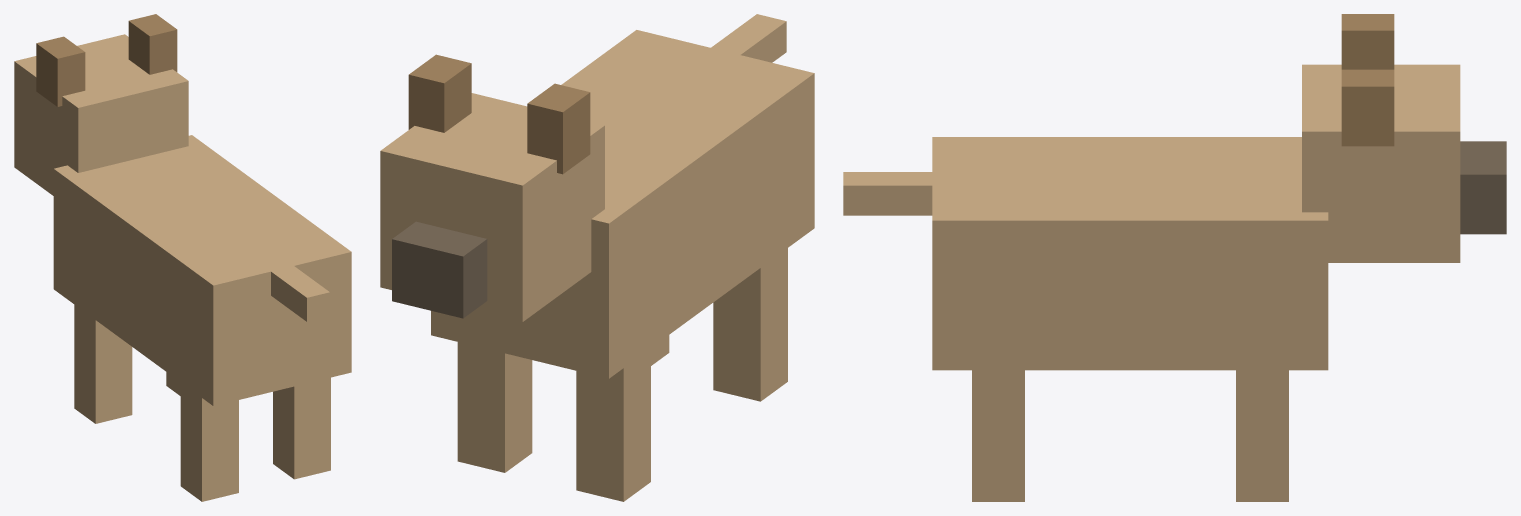
The model's file is perro.glb.
3 views of the same model, side by side, from view 1: azimuth 30°, elevation 25°; view 2: azimuth 150°, elevation 25°; view 3: azimuth 270°, elevation 25° (orthographic). The views are drawn at different scales.
Visible parts, largest first — view 1: Cuerpo, Cabeza, Pata, Pata.001, Pata.002, Oreja, Oreja.001, Cola; view 2: Cuerpo, Cabeza, Pata.001, Pata, Pata.003, Hocico, Oreja, Oreja.001, Cola; view 3: Cuerpo, Cabeza, Pata.002, Pata.003, Hocico, Oreja.001, Cola, Oreja.
Boxes of the visible parts, left/top/right/bottom form: Cuerpo: left=53, top=135, right=351, bottom=405; Cabeza: left=14, top=34, right=188, bottom=195; Pata: left=180, top=382, right=238, bottom=501; Pata.001: left=74, top=304, right=132, bottom=423; Pata.002: left=273, top=377, right=330, bottom=479; Oreja: left=36, top=36, right=85, bottom=106; Oreja.001: left=128, top=14, right=177, bottom=74; Cola: left=271, top=263, right=329, bottom=321; Cuerpo: left=431, top=30, right=814, bottom=378; Cabeza: left=380, top=93, right=604, bottom=321; Pata.001: left=576, top=348, right=650, bottom=501; Pata: left=713, top=248, right=787, bottom=401; Pata.003: left=457, top=342, right=532, bottom=472; Hocico: left=392, top=221, right=487, bottom=318; Oreja: left=527, top=83, right=590, bottom=174; Oreja.001: left=408, top=54, right=471, bottom=132; Cola: left=707, top=14, right=786, bottom=62; Cuerpo: left=932, top=137, right=1328, bottom=370; Cabeza: left=1302, top=64, right=1460, bottom=262; Pata.002: left=972, top=370, right=1024, bottom=501; Pata.003: left=1236, top=370, right=1288, bottom=501; Hocico: left=1460, top=141, right=1506, bottom=234; Oreja.001: left=1341, top=69, right=1394, bottom=146; Cola: left=843, top=172, right=942, bottom=215; Oreja: left=1341, top=14, right=1394, bottom=69.
Size of the model in its own units: 0.3 by 0.69 by 1.
